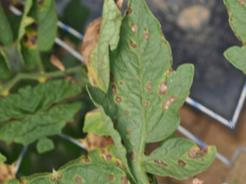Tomato Early blight leaf: (62, 0, 218, 178), (132, 124, 226, 184), (1, 0, 74, 72), (53, 142, 149, 184)
